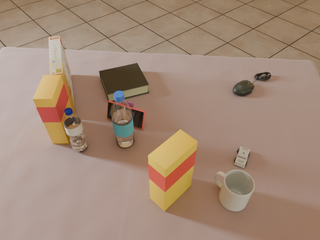book: (99, 63, 149, 102)
bottle: (112, 91, 135, 147), (63, 107, 88, 152)
box: (148, 130, 198, 211), (33, 75, 71, 143), (49, 36, 75, 114)
cup: (214, 170, 254, 211)
mouse: (233, 80, 254, 96)
phone: (107, 101, 145, 129)
toy_car: (234, 147, 250, 168)
